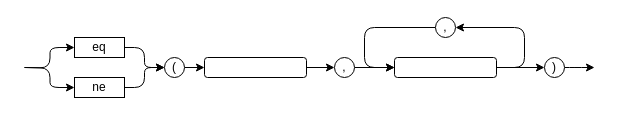
Image size: 620x115. Some labels were removed from this diagram. Here are the shapes that lost their labels. From the top down, the box of each, then its label:
(204, 56, 306, 78): expression
(394, 56, 496, 78): value
